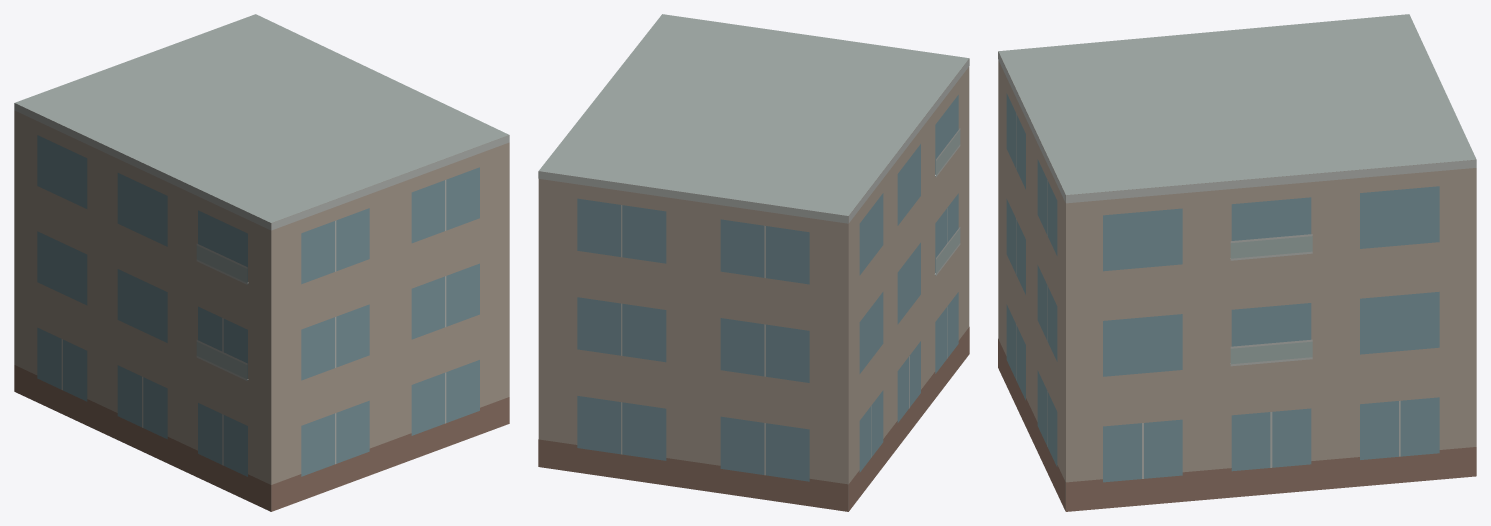
File: survey-upis-32705565.glb
The picture shows the model from 3 angles, left to right: view 1: azimuth 30°, elevation 25°; view 2: azimuth 150°, elevation 25°; view 3: azimuth 270°, elevation 25°; orthographic projection. The views are drawn at different scales.
Visible parts, largest first — view 1: survey-upis-32705565.tmp; view 2: survey-upis-32705565.tmp; view 3: survey-upis-32705565.tmp.
Part boxes in pixels (x1,y1,x2,y2): survey-upis-32705565.tmp: (14,14,509,511); survey-upis-32705565.tmp: (538,14,969,511); survey-upis-32705565.tmp: (998,14,1476,511).
Size of the model in its own units: 11.54 by 9.4 by 12.88.
